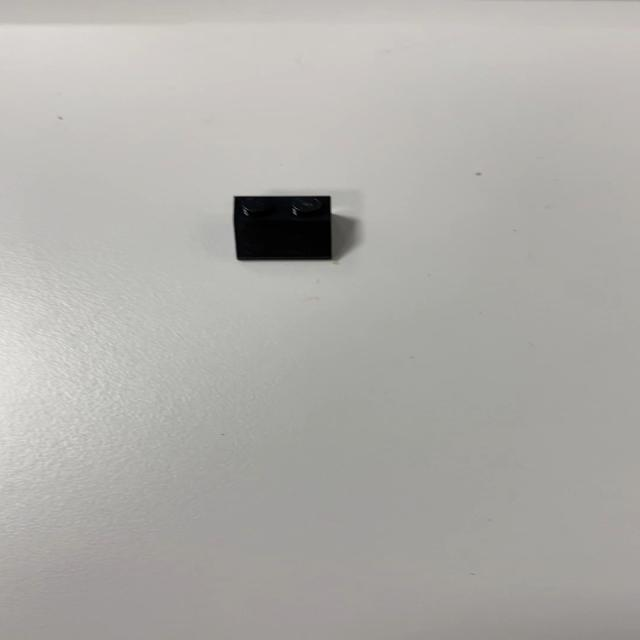P2x2x1: (226, 194, 343, 266)
